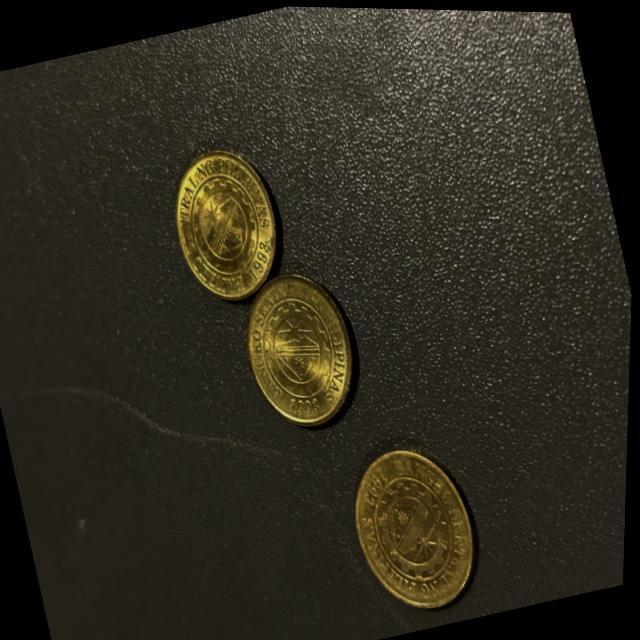25Cent_Old_Back: (362, 448, 474, 609), (179, 160, 277, 301), (254, 281, 356, 412)
